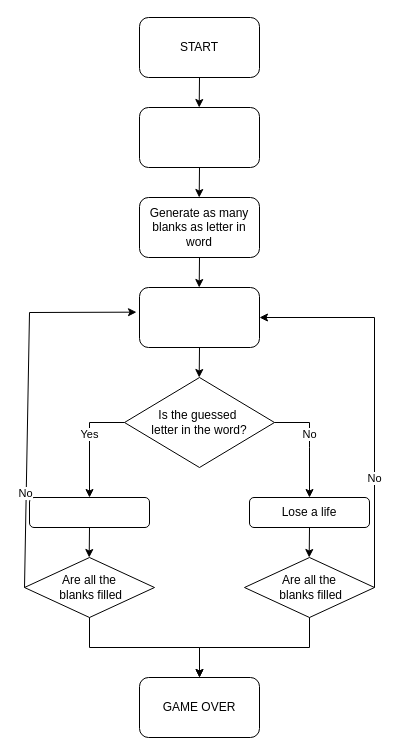
This 400x755 diagram has some shape labels left out. Each missing label, with the box of its shape:
Ask the user to guess a letter: (138, 286, 260, 348)
Generate a random word: (138, 106, 260, 168)
Replace the blank with the letter: (28, 496, 150, 528)
